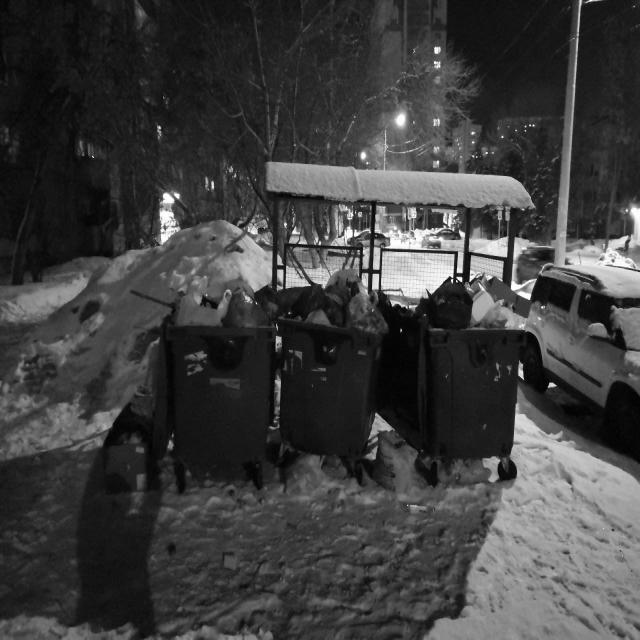Trashcan: (388, 254, 536, 496), (150, 272, 287, 509), (266, 262, 412, 484)
